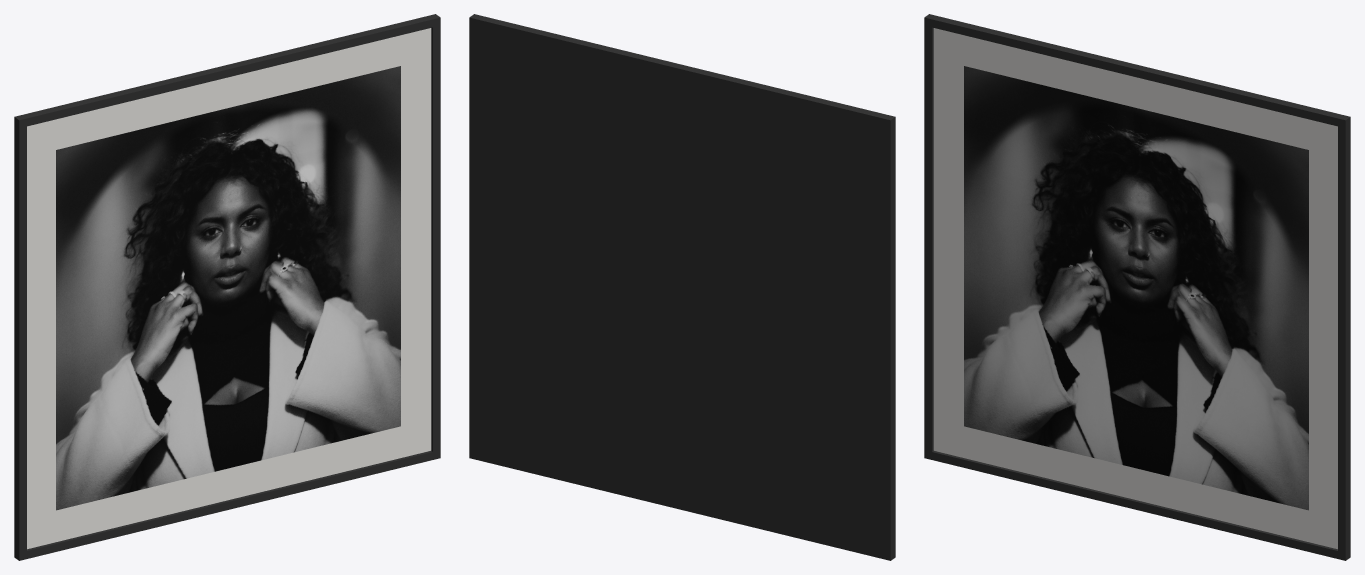
The model's file is kragen-90.gltf.
The picture shows the model from 3 angles, left to right: view 1: azimuth 30°, elevation 25°; view 2: azimuth 150°, elevation 25°; view 3: azimuth 330°, elevation 25°; orthographic projection.
Visible parts, largest first — view 1: tavla; view 2: tavla; view 3: tavla.
Part boxes in pixels (x1,y1,x2,y2): tavla: [14, 14, 440, 560]; tavla: [469, 14, 895, 560]; tavla: [924, 14, 1350, 560].
Size of the model in its own units: 1.1 by 1.1 by 0.022.
3 materials, 1 textured.
